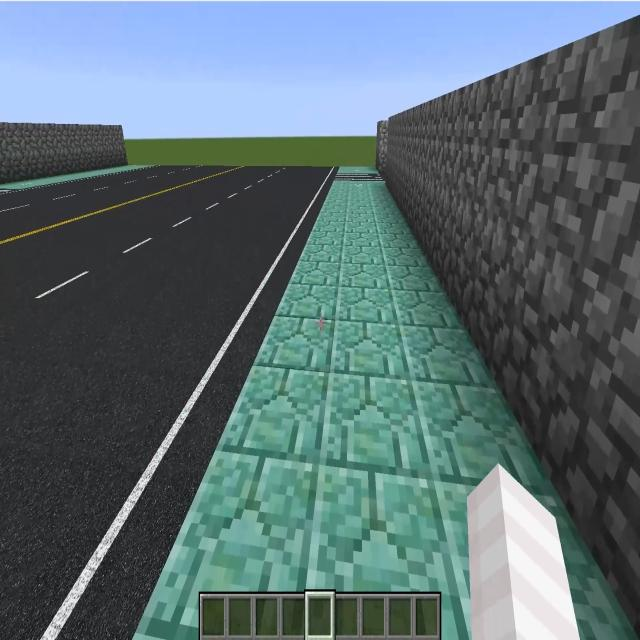crosswalk: (335, 172, 383, 180)
road: (1, 167, 338, 639)
sidewalk: (133, 181, 639, 639), (1, 165, 144, 188), (339, 167, 378, 172)
